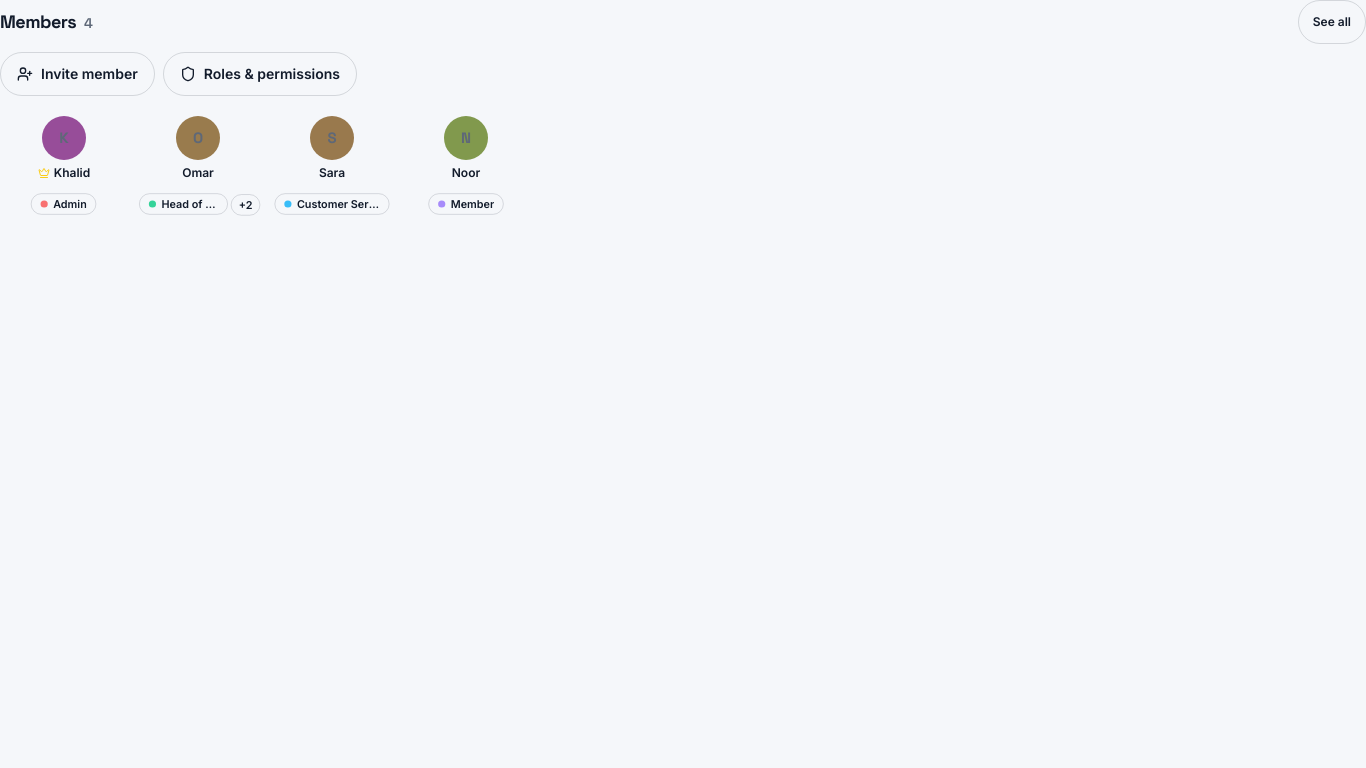
Members row › opens every role in full from the pill, Member last, and closes with Close
The width and height of the screenshot is (1366, 768).
Click the button with aria-label "Omar’s roles".
click(198, 204)  # box [134,182,262,226]
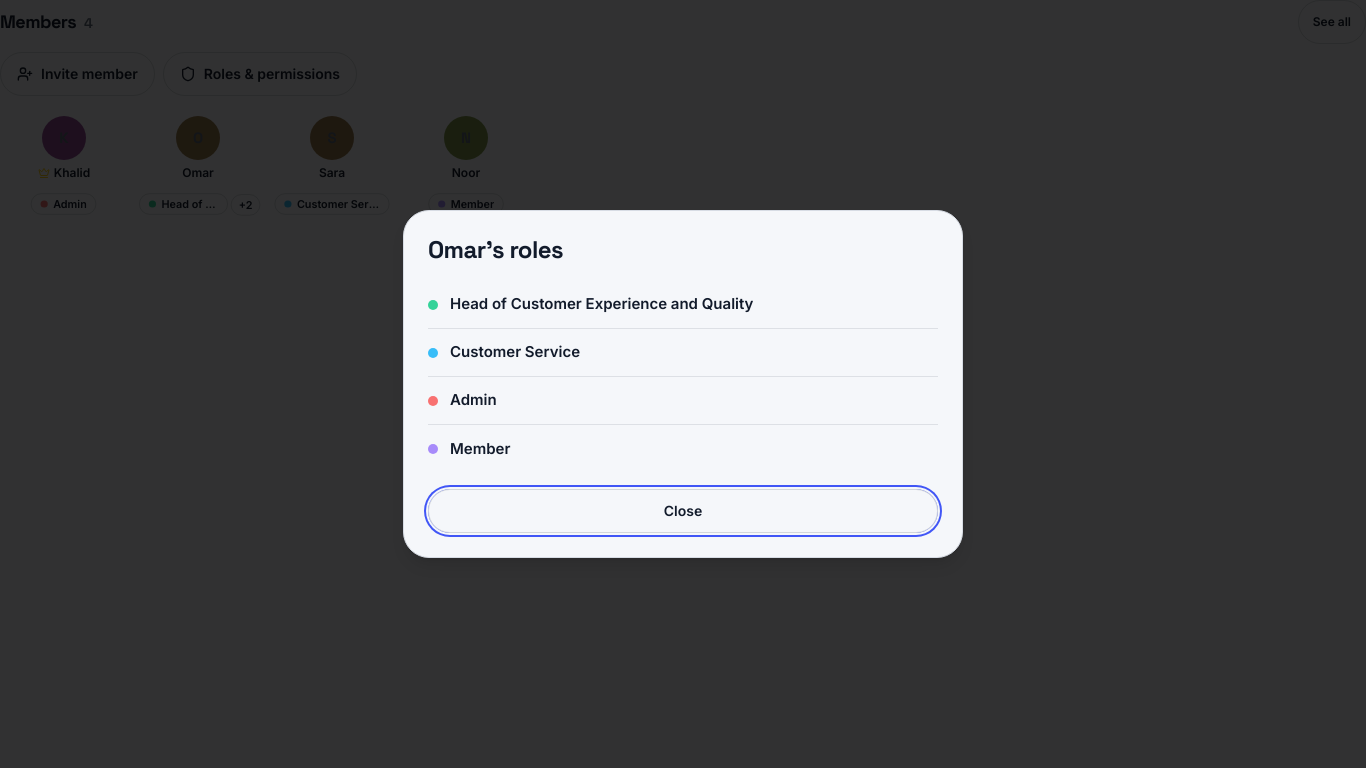
Expected: the list items read "Head of Customer Experience and Quality", "Customer Service", "Admin", "Member", in this order, [428,281,938,329]; [428,329,938,377]; [428,377,938,425]; [428,439,510,458]
Click the button "Close".
click(683, 511)  # box [428,489,938,533]
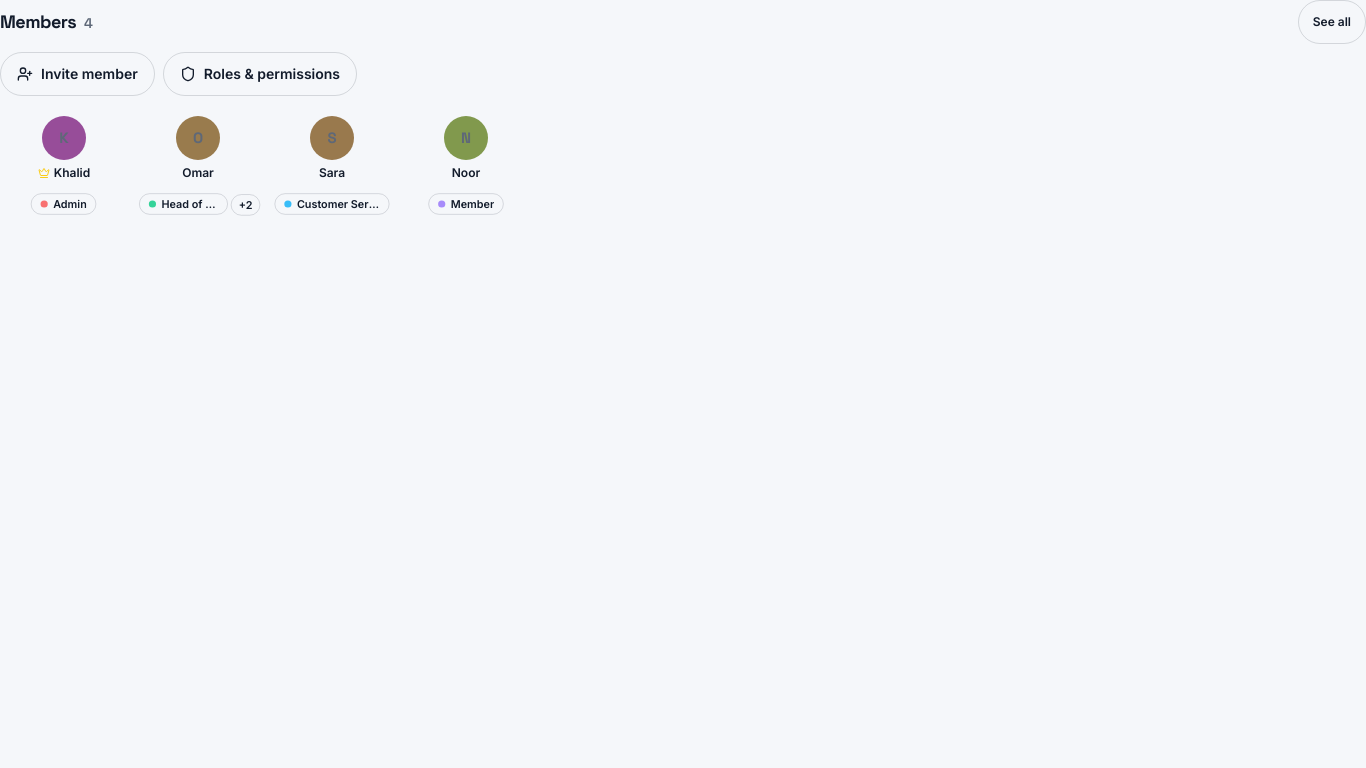
Expected: the list with test id "roles-sheet" is gone
